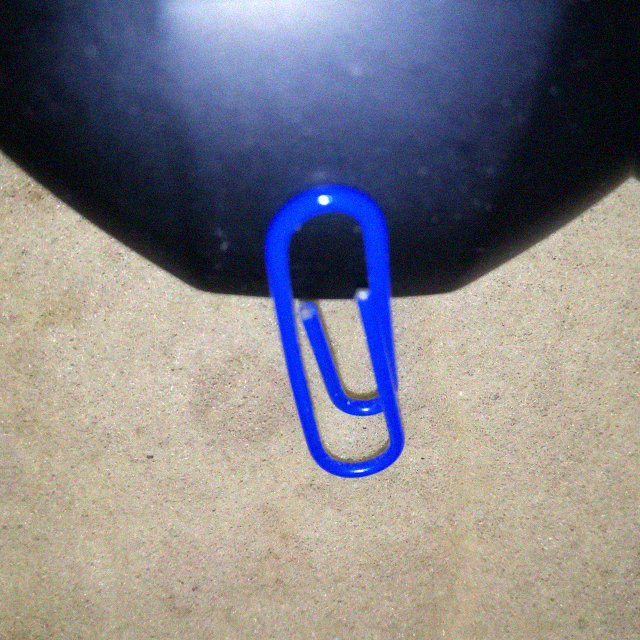pin: (265, 187, 407, 490)
